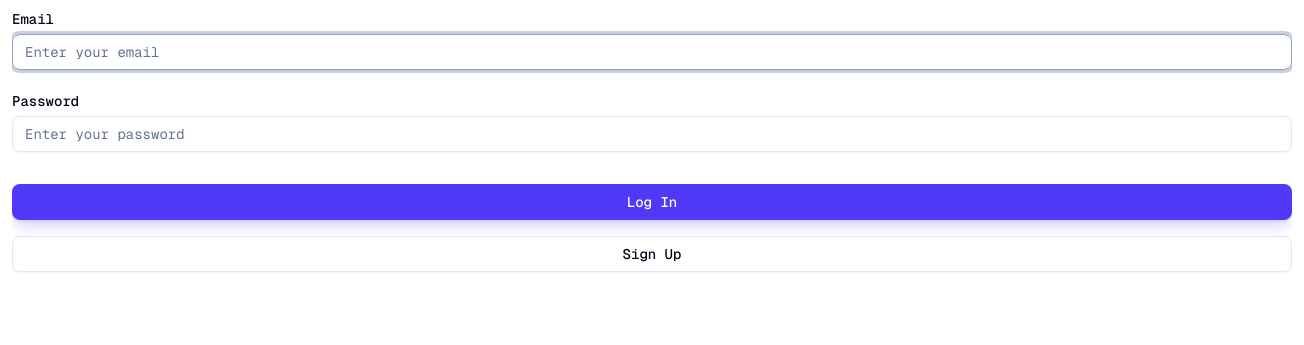
Test case: AuthForm › login › when the input values are invalid › shows error message
Click the button with test id "auth-form-login". click: (652, 202)
box: top-left (12, 184), bottom-right (1292, 220)
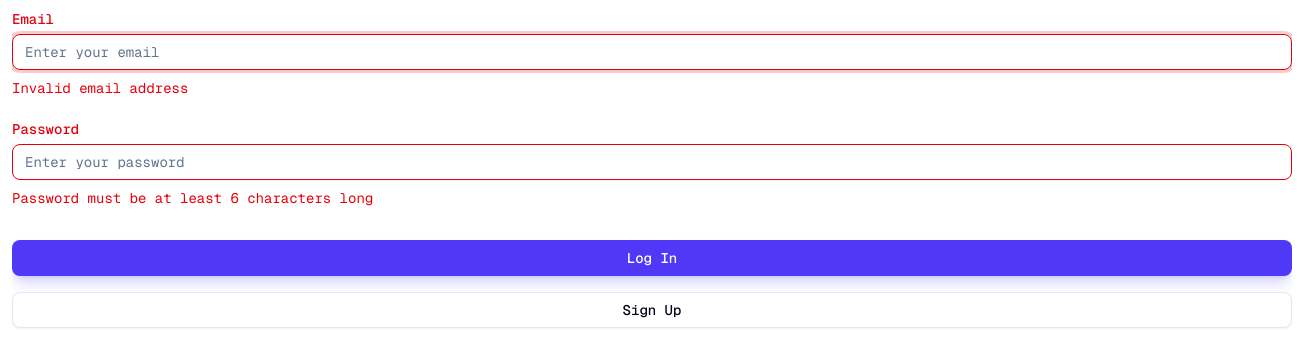
Result: the text with test id "auth-form-email-error" reads "Invalid email address" at top-left (12, 79), bottom-right (188, 97)
Result: the text with test id "auth-form-password-error" reads "Password must be at least 6 characters long" at top-left (12, 189), bottom-right (373, 207)
